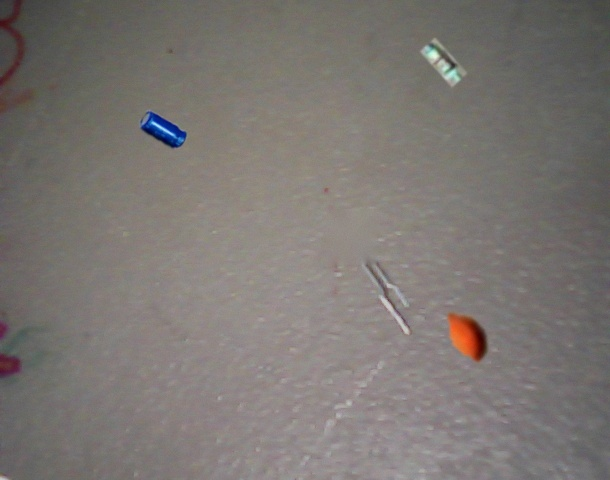capacitor: (447, 312, 489, 363), (140, 110, 187, 148)
resistor: (420, 38, 467, 87)
